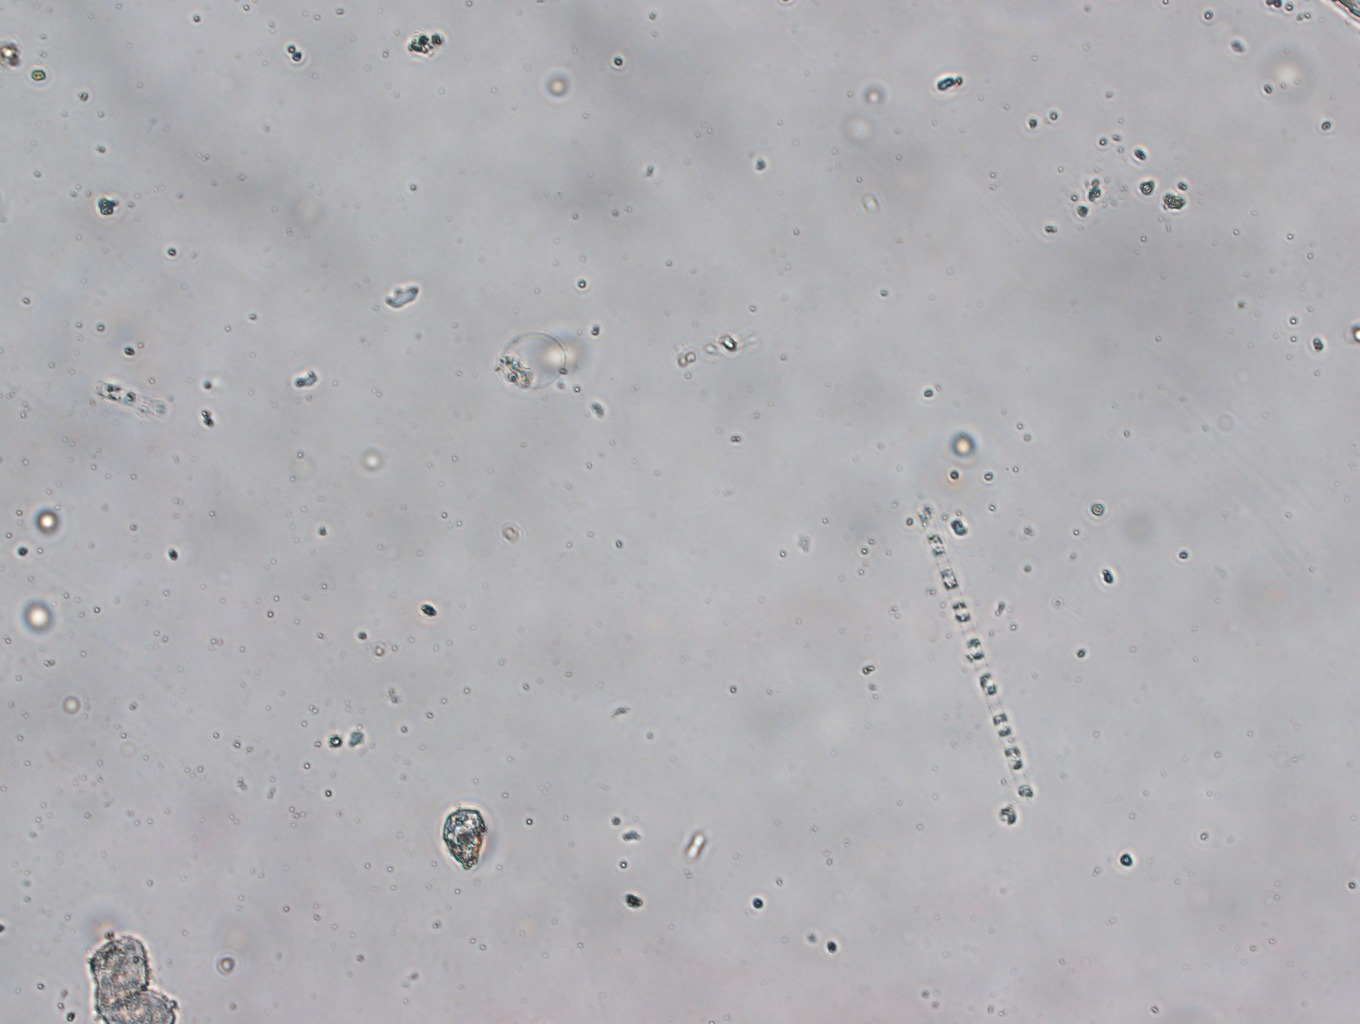skeletonema: (919, 507, 1035, 806)
